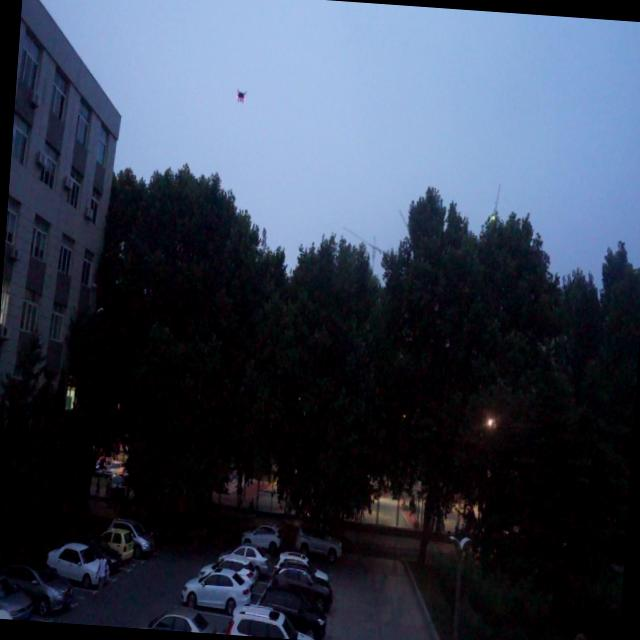drone: (232, 84, 248, 105)
